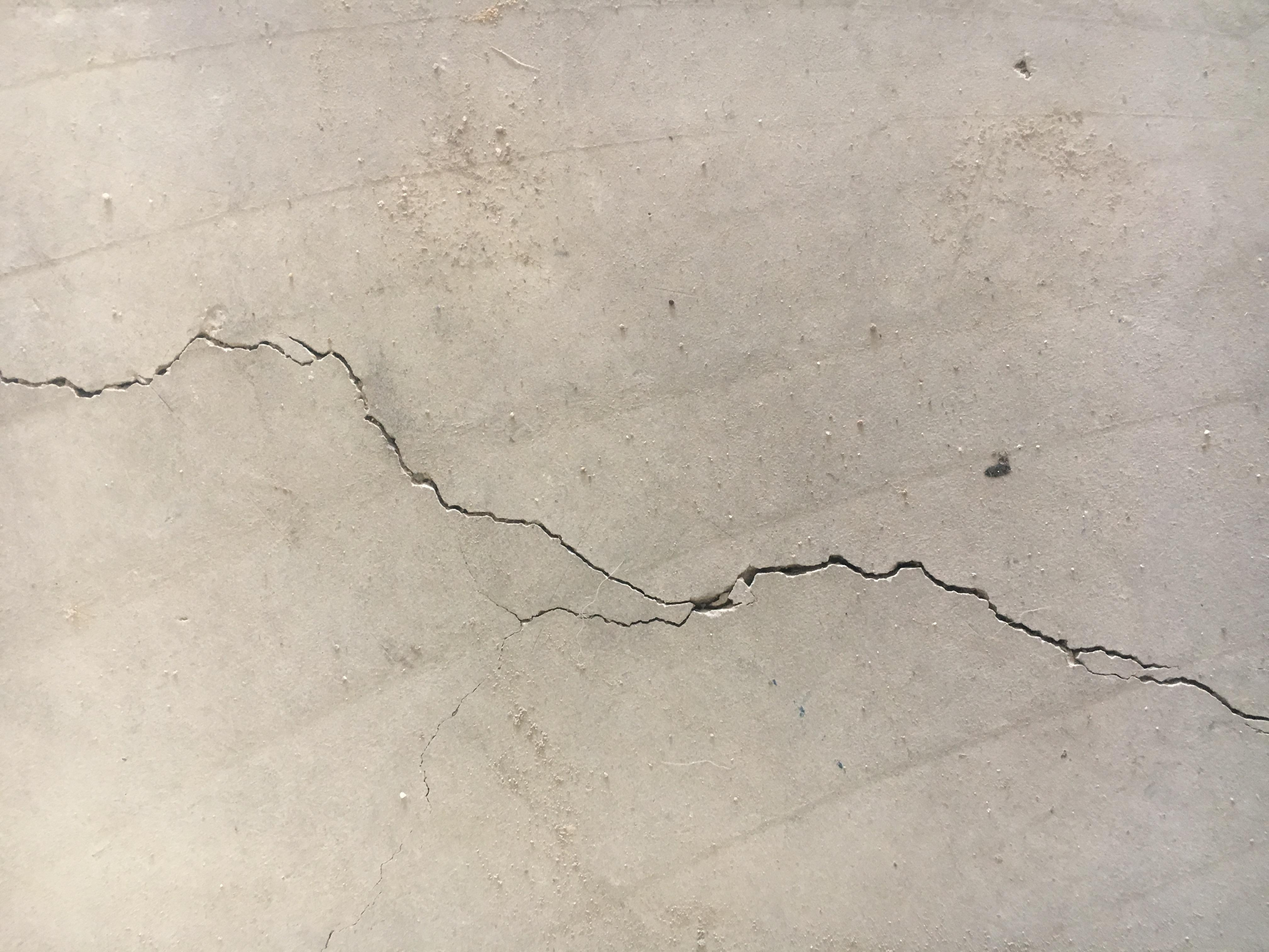Structural-Crack: (3, 324, 1265, 733)
